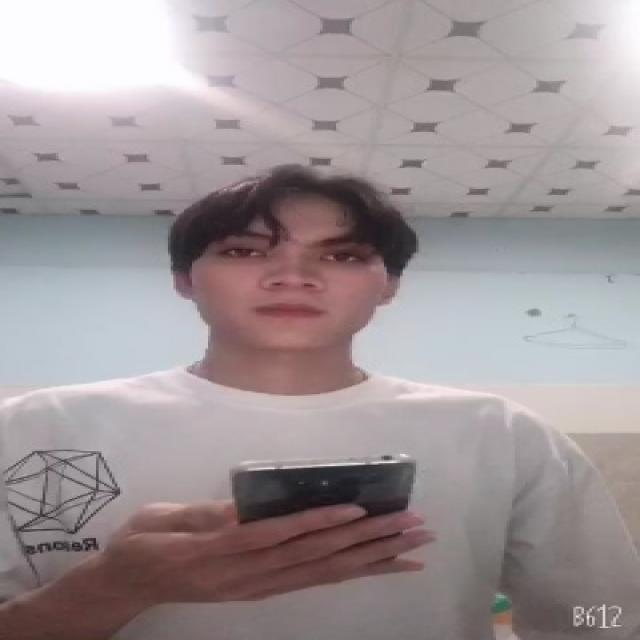Phone: (227, 450, 419, 566)
